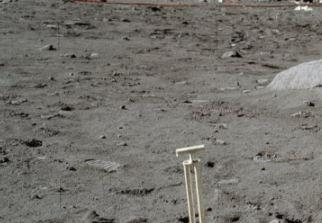rock: (267, 59, 322, 90)
